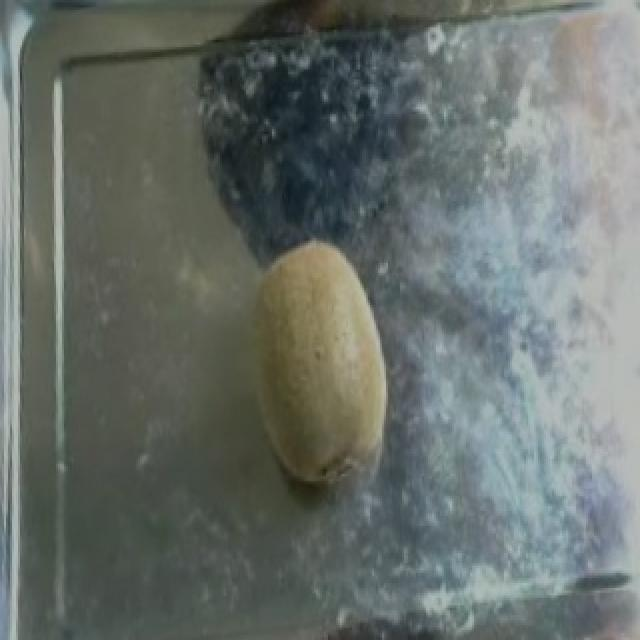Fruit: (246, 223, 416, 499)
